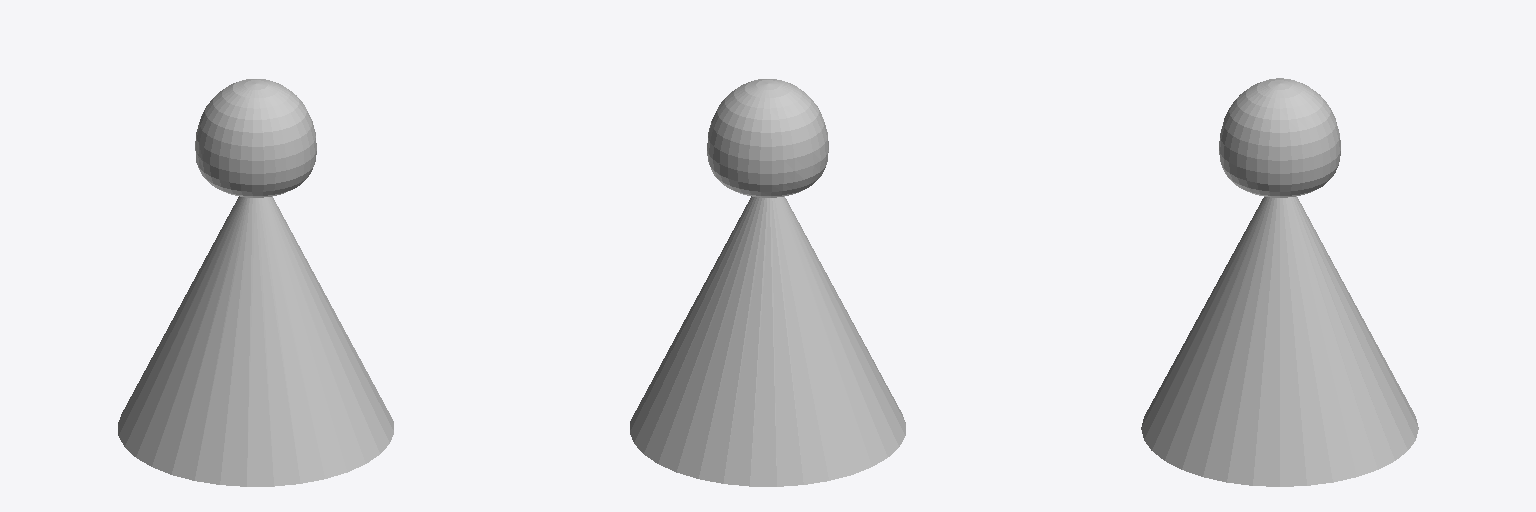
File: player.obj
The picture shows the model from 3 angles: view 1: azimuth 30°, elevation 25°; view 2: azimuth 150°, elevation 25°; view 3: azimuth 270°, elevation 25°; orthographic projection.
Parts seen in each view (by area): view 1: Сфера; view 2: Сфера; view 3: Сфера.
Part boxes in pixels (bbox=[...]): Сфера: bbox=[118, 79, 393, 486]; Сфера: bbox=[630, 79, 905, 486]; Сфера: bbox=[1141, 78, 1418, 486].
Size of the model in its own units: 3.26 by 4.47 by 3.26.